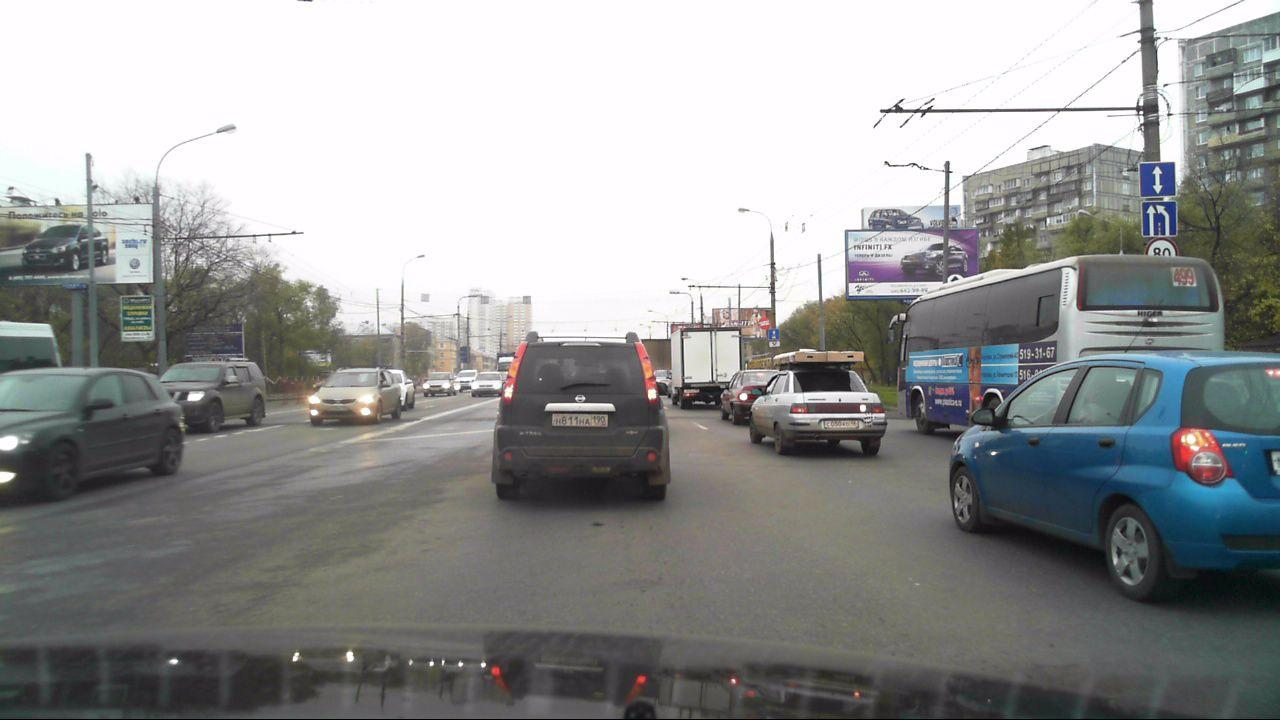3_24: (1144, 237, 1178, 256)
5_14_1: (768, 327, 780, 340)
5_15_5: (1139, 200, 1179, 236)
5_8: (1138, 161, 1175, 197)
8_5_2: (768, 341, 781, 348)
